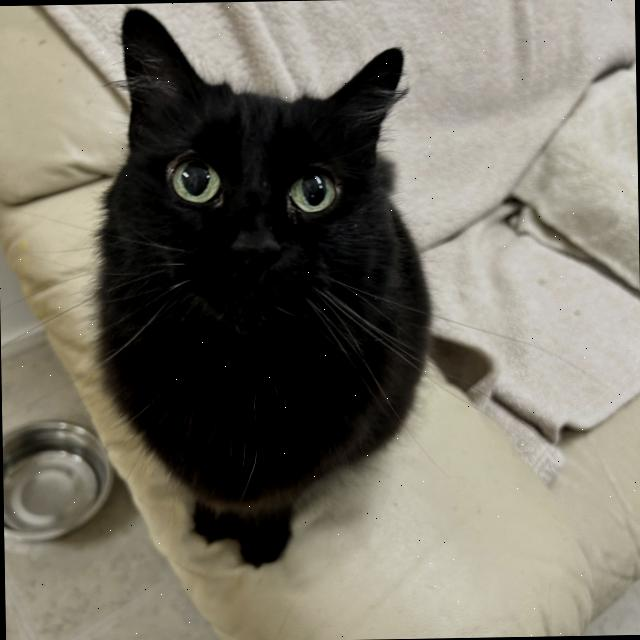domestic_long_hair_cat: (84, 0, 416, 388)
